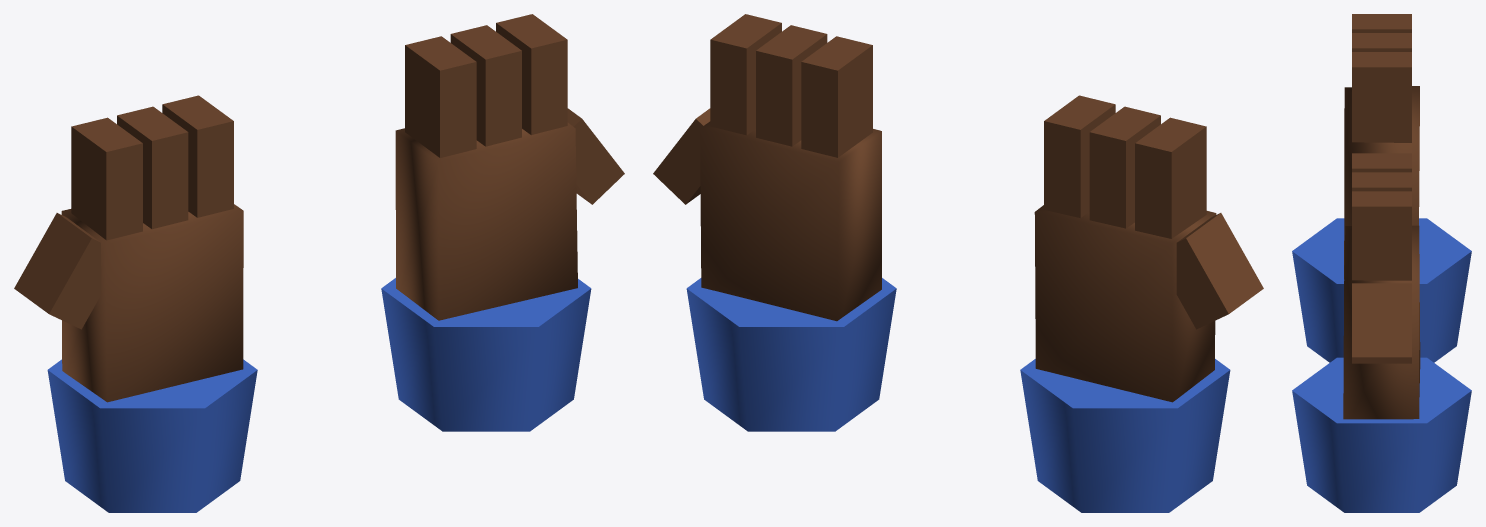
Rendered from gloves_t2.glb.
3 renders of one model, left to right at view 1: azimuth 30°, elevation 25°; view 2: azimuth 150°, elevation 25°; view 3: azimuth 270°, elevation 25°, orthographic. The views are drawn at different scales.
Visible parts, largest first — view 1: sideR_leather2, sideL_leather2, sideL_trim2, sideR_trim2; view 2: sideR_leather2, sideL_leather2, sideR_trim2, sideL_trim2; view 3: sideL_leather2, sideL_trim2, sideR_trim2, sideR_leather2.
Part boxes in pixels (x1,y1,x2,y2): sideR_leather2: (14,95,243,402); sideL_leather2: (395,14,624,320); sideL_trim2: (381,278,591,431); sideR_trim2: (47,359,257,512); sideR_leather2: (1034,95,1263,402); sideL_leather2: (653,14,881,321); sideR_trim2: (1020,359,1230,512); sideL_trim2: (686,278,896,431); sideL_leather2: (1343,153,1420,419); sideL_trim2: (1292,357,1471,512); sideR_trim2: (1292,218,1471,362); sideR_leather2: (1344,14,1419,279).
Size of the model in its own units: 0.3797 by 0.225 by 0.12.
